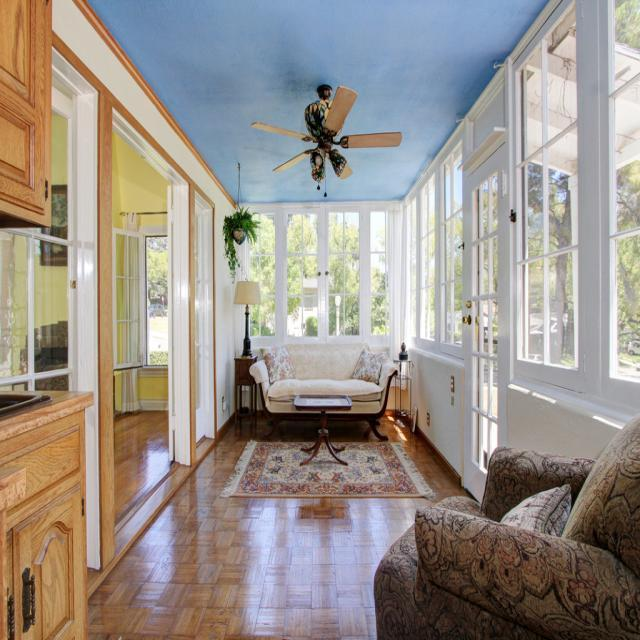bulb_off: (314, 152, 323, 168)
fan_off: (256, 80, 403, 192)
